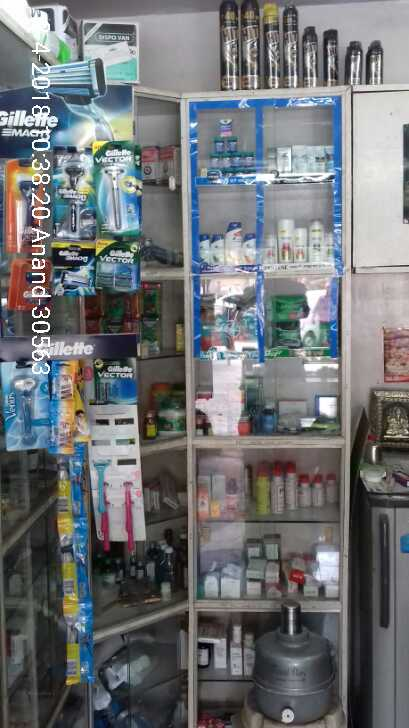vicks: (220, 119, 232, 136), (220, 153, 232, 168), (245, 150, 255, 167), (227, 136, 238, 151), (215, 138, 224, 152), (211, 155, 219, 168), (234, 152, 241, 166)
